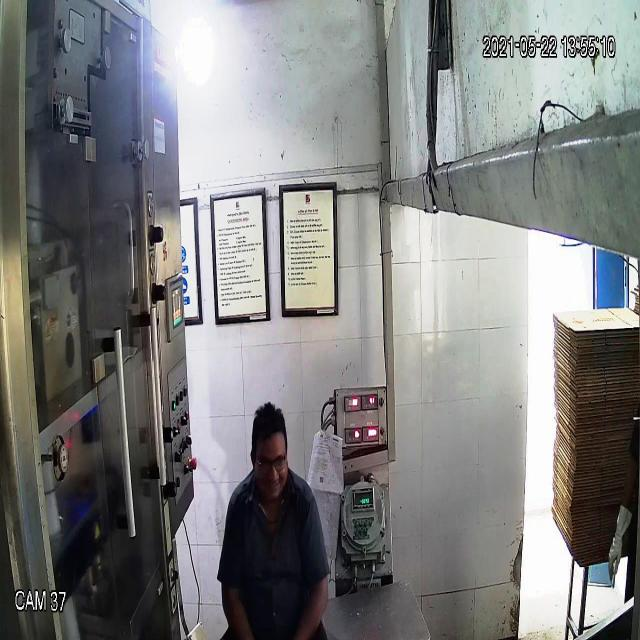glasses: (246, 446, 290, 479)
